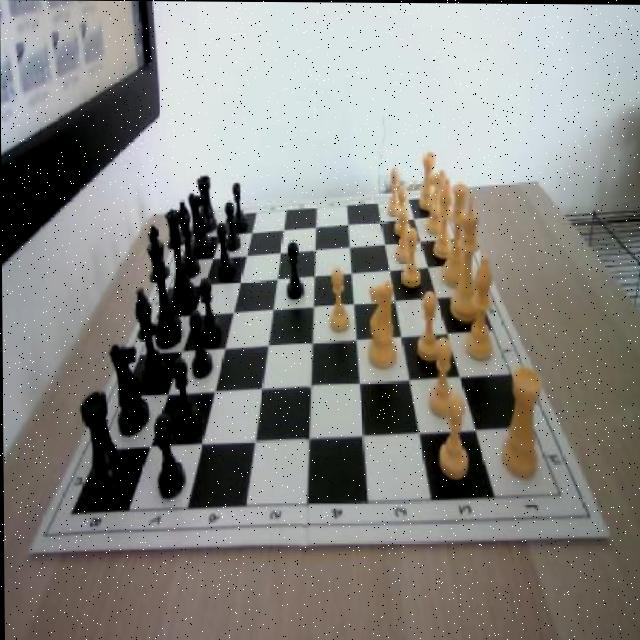bishop: (134, 287, 167, 386), (176, 198, 198, 275)
black-bishop: (147, 224, 184, 347)
black-king: (108, 344, 150, 436), (186, 190, 212, 254)
black-knight: (154, 412, 184, 499), (173, 355, 199, 440), (199, 275, 222, 345), (190, 310, 211, 378), (285, 242, 303, 300), (217, 225, 234, 280), (231, 183, 247, 235), (224, 201, 240, 250)
black-pawn: (164, 208, 196, 310)
black-queen: (81, 391, 124, 505), (198, 175, 217, 232)
black-rook: (465, 255, 496, 360), (432, 178, 454, 256)
white-bishop: (450, 191, 482, 320)
white-king: (365, 275, 397, 368), (425, 167, 449, 237)
white-knight: (437, 394, 470, 483), (423, 338, 453, 420), (416, 289, 442, 360), (400, 228, 420, 289), (329, 267, 348, 331), (393, 207, 412, 263), (394, 184, 409, 237), (388, 165, 401, 215)
white-pawn: (440, 184, 468, 289)
white-queen: (501, 366, 543, 478), (418, 151, 436, 212)
